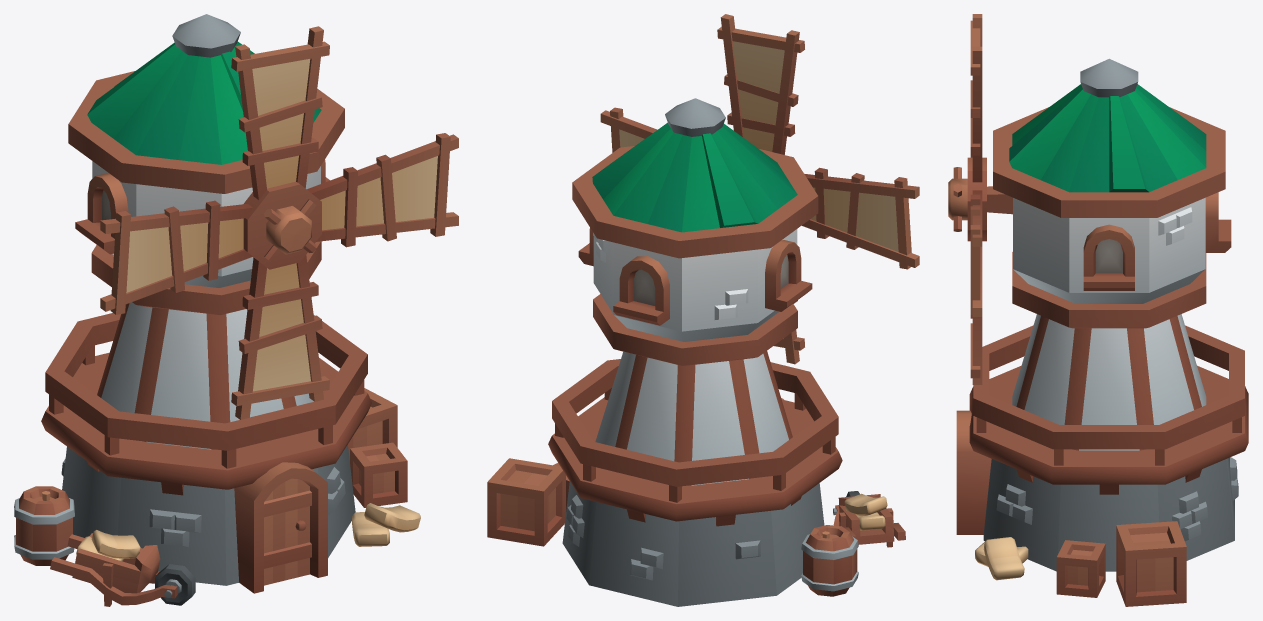
Rendered from building_windmill_green.glb.
3 views of the same model, side by side, from view 1: azimuth 30°, elevation 25°; view 2: azimuth 150°, elevation 25°; view 3: azimuth 270°, elevation 25° (orthographic). The views are drawn at different scales.
Parts seen in each view (by area): view 1: building_windmill_green, building_windmill_top_fan_green, building_windmill_top_green; view 2: building_windmill_green, building_windmill_top_green, building_windmill_top_fan_green; view 3: building_windmill_green, building_windmill_top_green, building_windmill_top_fan_green.
Boxes of the visible parts, x1,y1,x2,y2 form: building_windmill_green: (14, 302, 420, 606); building_windmill_top_fan_green: (100, 26, 458, 419); building_windmill_top_green: (68, 14, 344, 314); building_windmill_green: (487, 351, 905, 606); building_windmill_top_green: (572, 98, 818, 365); building_windmill_top_fan_green: (600, 14, 919, 364); building_windmill_green: (956, 314, 1248, 606); building_windmill_top_green: (987, 58, 1231, 328); building_windmill_top_fan_green: (948, 14, 986, 384).
Bounding box in the file's own units: 1.13 × 1.46 × 0.8165.
1 material, 1 textured.
